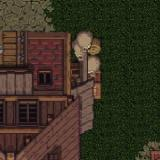Interaction: (12, 0, 80, 40)
Obstacle: (0, 0, 128, 160), (128, 138, 160, 160)
